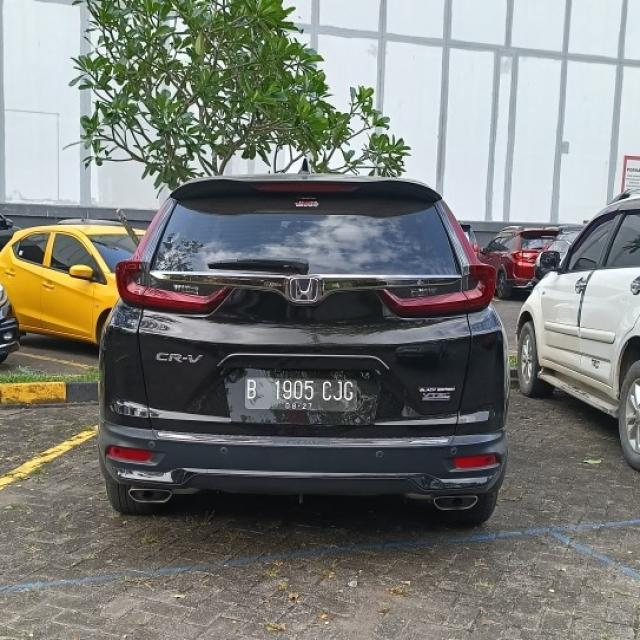plates: (240, 372, 366, 418)
